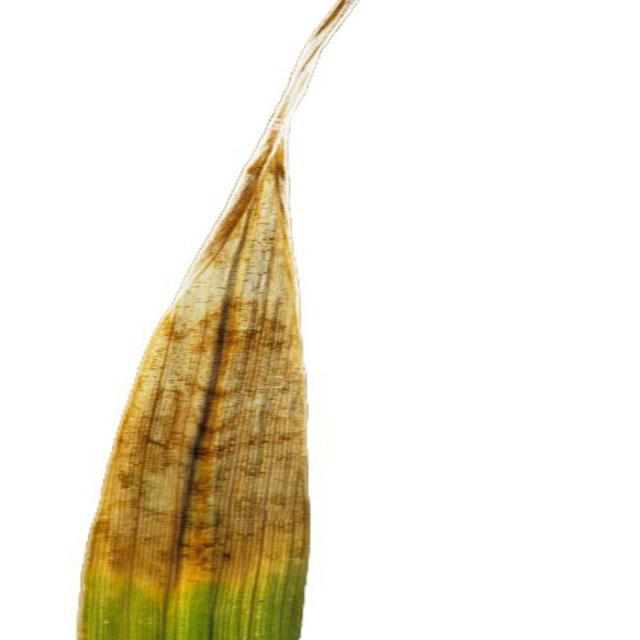Leaf scald: (27, 0, 578, 640)
